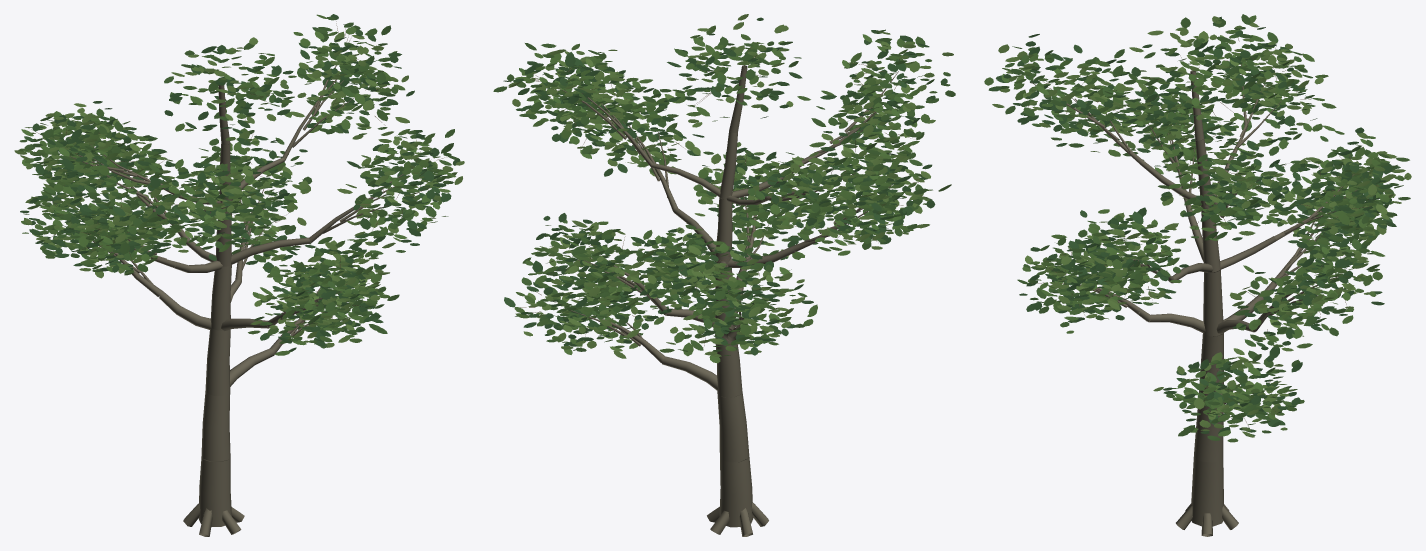
File: Chene_0_High.fbx
3 views of the same model, side by side, from view 1: azimuth 30°, elevation 25°; view 2: azimuth 150°, elevation 25°; view 3: azimuth 270°, elevation 25° (orthographic).
Visible parts, largest first — view 1: Chene_0_High; view 2: Chene_0_High; view 3: Chene_0_High.
Part boxes in pixels (x1,y1,x2,y2): Chene_0_High: (14,14,464,536); Chene_0_High: (493,14,955,536); Chene_0_High: (984,14,1411,536).
Bounding box in the file's own units: 623 × 766 × 597.
